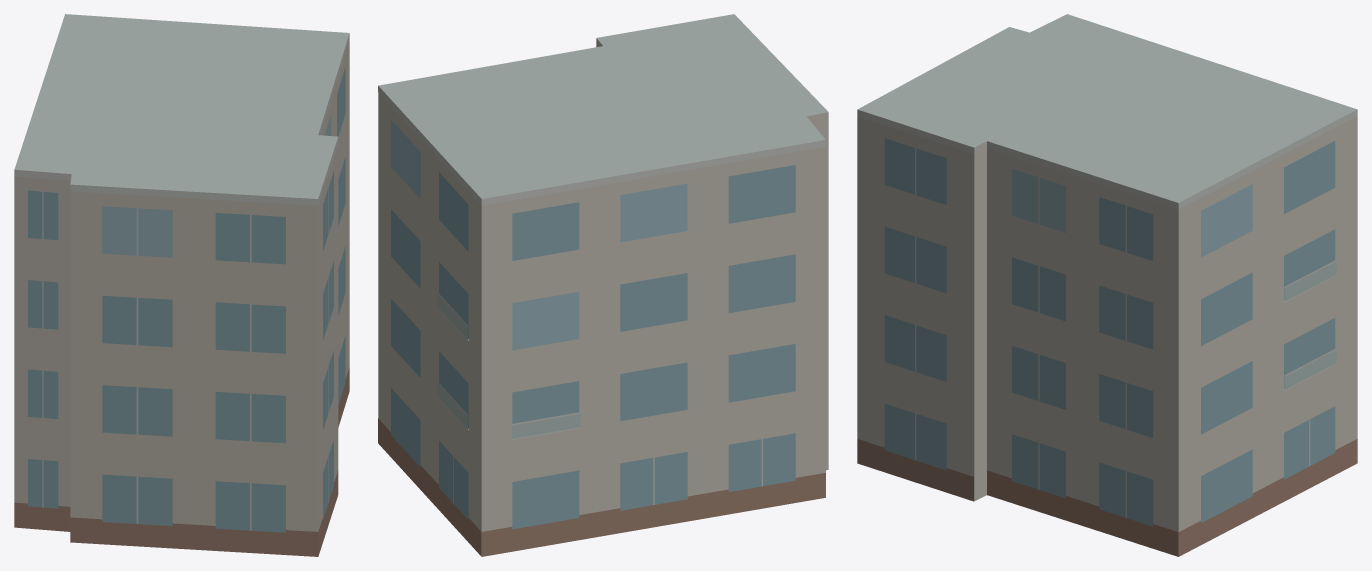
The model's file is survey-upis-32850782.glb.
The picture shows the model from 3 angles, left to right: view 1: azimuth 30°, elevation 25°; view 2: azimuth 150°, elevation 25°; view 3: azimuth 270°, elevation 25°; orthographic projection.
Visible parts, largest first — view 1: survey-upis-32850782.tmp; view 2: survey-upis-32850782.tmp; view 3: survey-upis-32850782.tmp.
Boxes of the visible parts, <box> form: survey-upis-32850782.tmp: <box>14,14,349,556</box>; survey-upis-32850782.tmp: <box>378,14,828,556</box>; survey-upis-32850782.tmp: <box>857,14,1357,556</box>.
Size of the model in its own units: 14.89 by 13 by 16.66.
